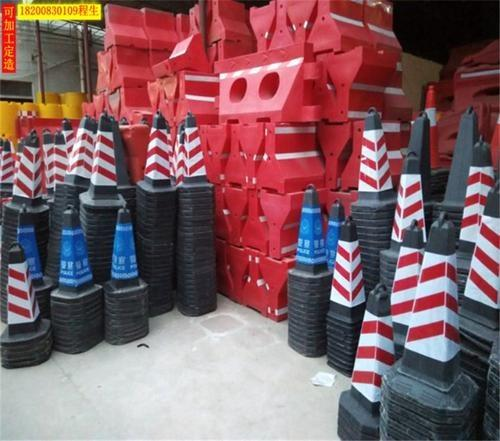cone_barrel: (394, 214, 468, 395), (345, 284, 397, 419), (387, 219, 423, 352), (463, 185, 499, 316), (455, 137, 493, 256), (327, 217, 368, 322), (51, 205, 98, 294), (3, 239, 45, 336), (387, 154, 426, 256), (102, 209, 144, 295), (355, 110, 392, 204), (288, 185, 325, 275), (85, 112, 120, 200), (13, 205, 47, 287), (10, 131, 42, 208), (142, 111, 172, 190), (179, 112, 210, 185), (323, 198, 342, 265)
